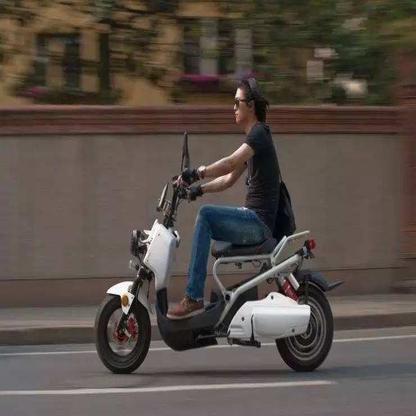target: (94, 74, 350, 377)
